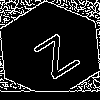Z: (25, 25, 82, 80)
